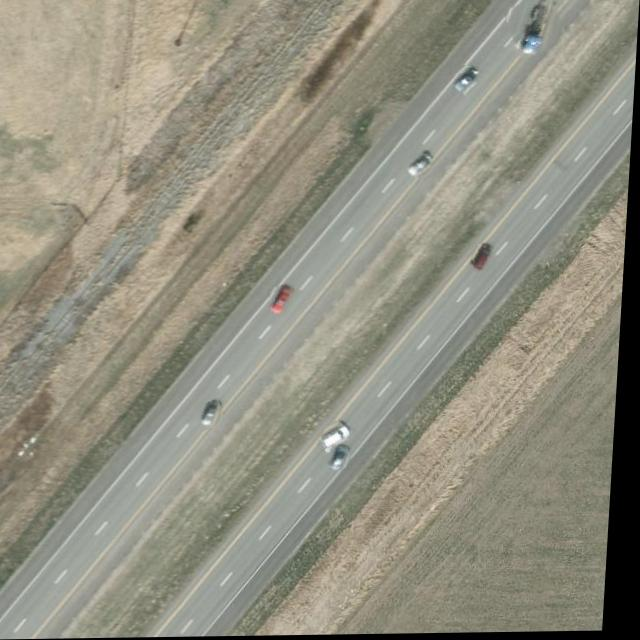vehicle: (506, 0, 567, 58), (324, 422, 356, 455), (271, 285, 301, 318), (202, 401, 231, 430), (453, 67, 480, 96), (332, 445, 359, 473), (408, 153, 435, 180), (474, 243, 499, 272)
